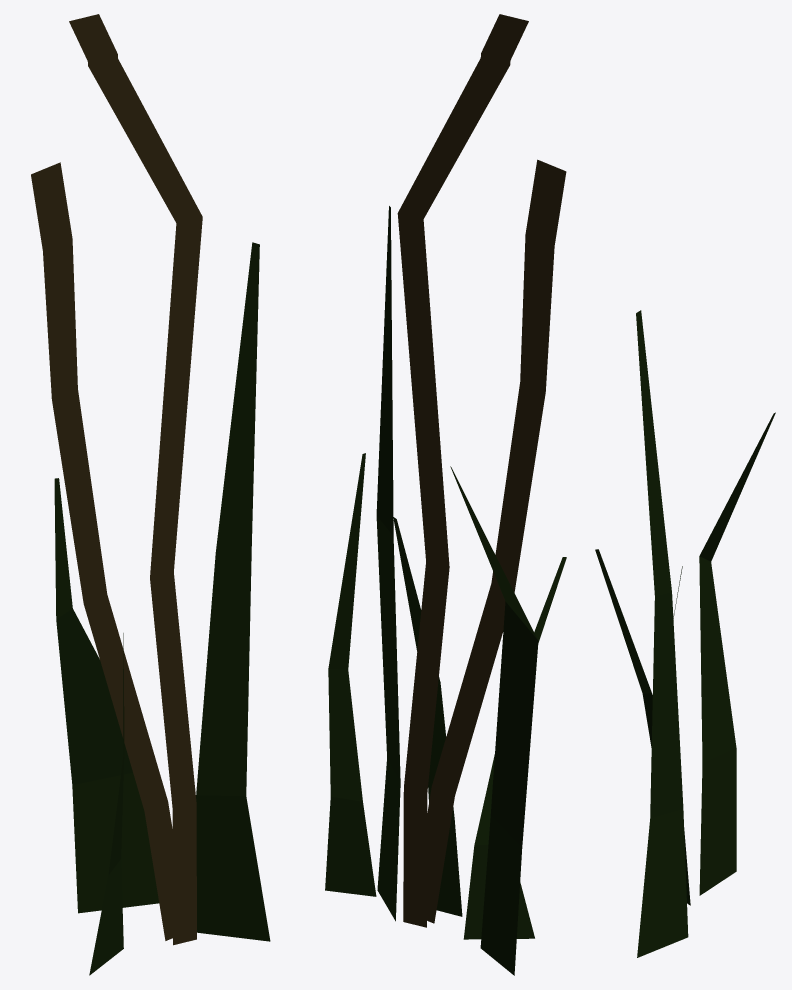
The model's file is HIERBAJO_5.fbx.
The picture shows the model from 3 angles, left to right: view 1: azimuth 30°, elevation 25°; view 2: azimuth 150°, elevation 25°; view 3: azimuth 270°, elevation 25°; orthographic projection. The views are drawn at different scales.
Visible parts, largest first — view 1: HIERBAJOS_5; view 2: HIERBAJOS_5; view 3: HIERBAJOS_5.
Boxes of the visible parts, x1,y1,x2,y2 form: HIERBAJOS_5: (31, 14, 270, 975); HIERBAJOS_5: (325, 14, 566, 975); HIERBAJOS_5: (595, 310, 775, 957).
Size of the model in its own units: 22.4 by 79.39 by 15.17.
